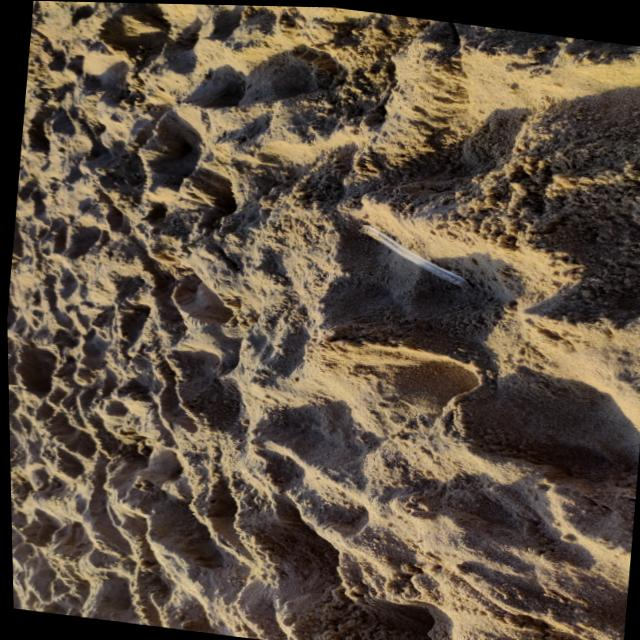Plastic: (335, 216, 477, 290)
